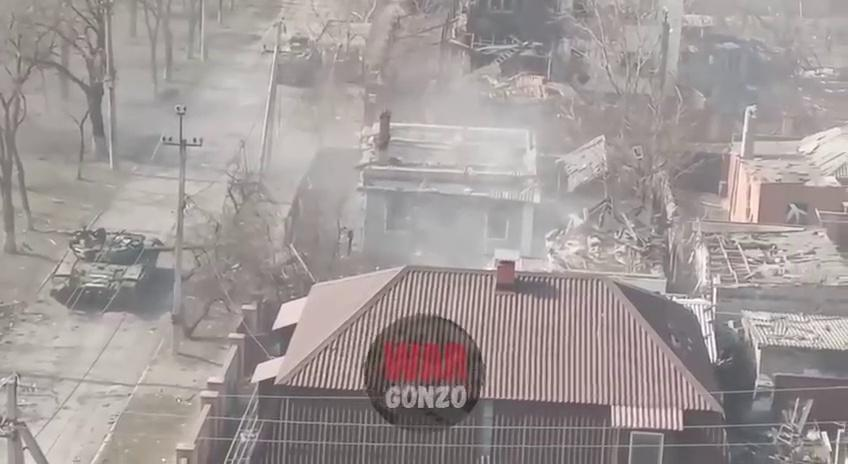tank: (50, 226, 212, 300)
